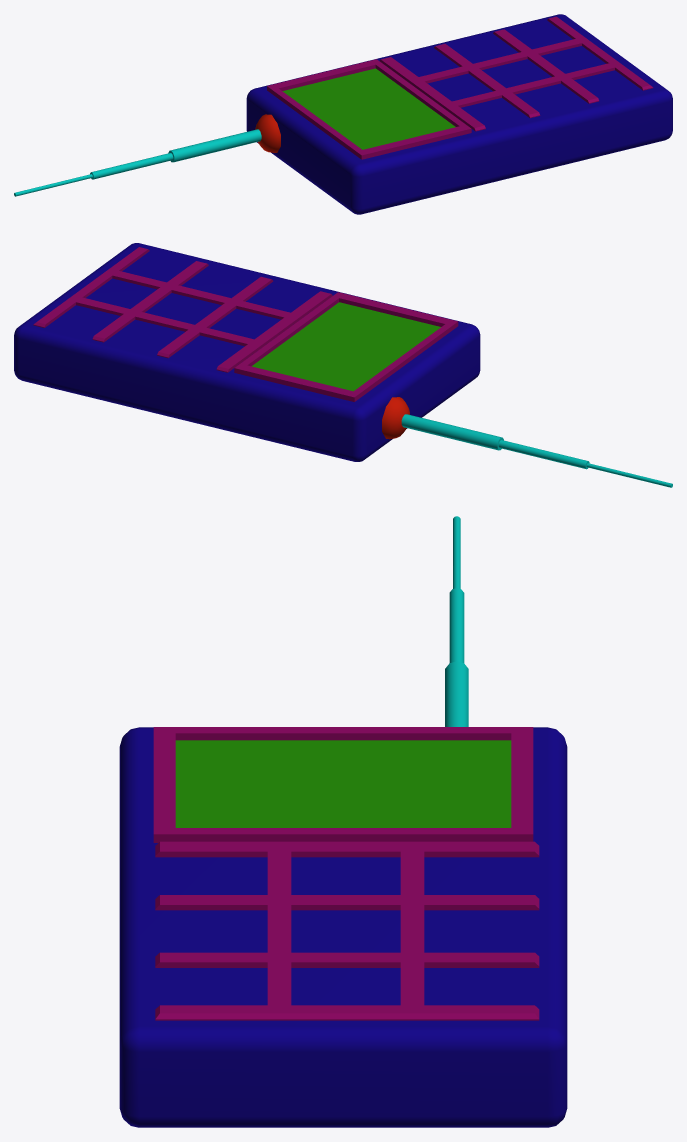
Rendered from SM_Telecommande.fbx.
The picture shows the model from 3 angles, top to bottom: view 1: azimuth 30°, elevation 25°; view 2: azimuth 150°, elevation 25°; view 3: azimuth 270°, elevation 25°; orthographic projection. The views are drawn at different scales.
Visible parts, largest first — view 1: polySurface91; view 2: polySurface91; view 3: polySurface91.
Boxes of the visible parts, <box> form: polySurface91: <box>14,14,672,214</box>; polySurface91: <box>14,243,672,487</box>; polySurface91: <box>119,516,567,1127</box>.
Bounding box in the file's own units: 13.49 × 1.21 × 4.53.
